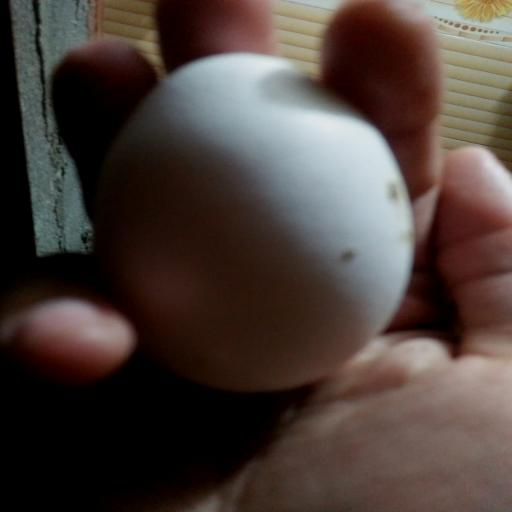telur: (92, 52, 415, 398)
